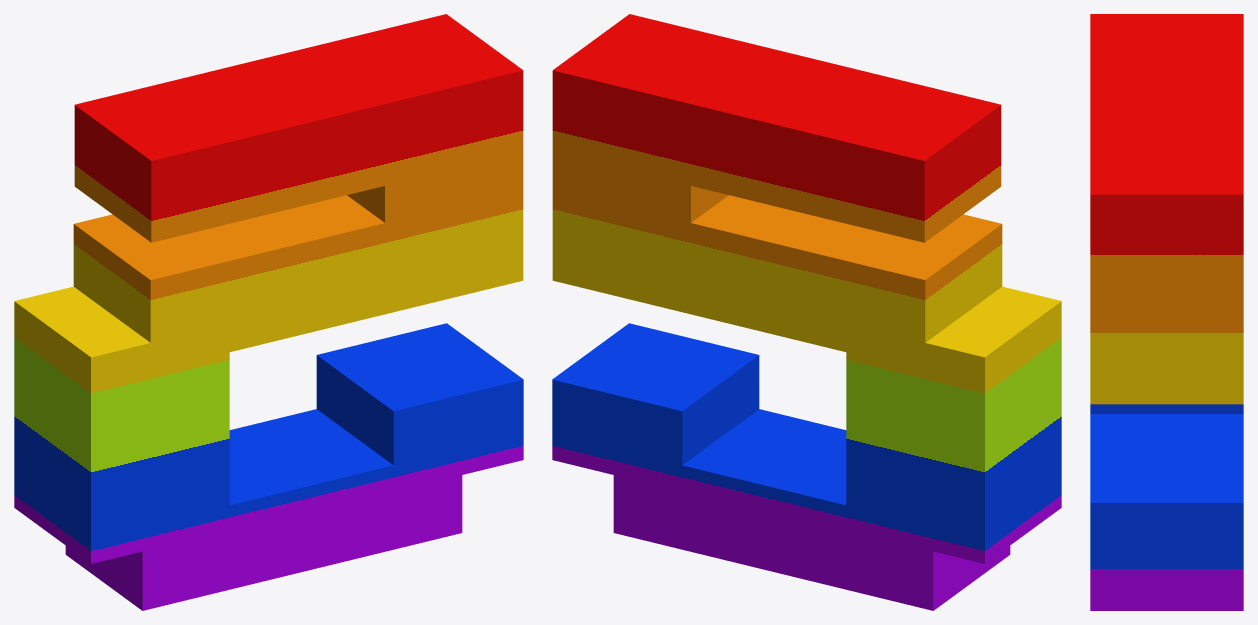
File: Number_05.fbx
3 renders of one model, left to right at view 1: azimuth 30°, elevation 25°; view 2: azimuth 150°, elevation 25°; view 3: azimuth 270°, elevation 25°, orthographic.
Parts seen in each view (by area): view 1: Number_05; view 2: Number_05; view 3: Number_05.
Part boxes in pixels (<box>): Number_05: <box>14,14,523,610</box>; Number_05: <box>552,14,1061,610</box>; Number_05: <box>1090,14,1243,610</box>.
Size of the model in its own units: 78.86 by 77.97 by 24.3.
